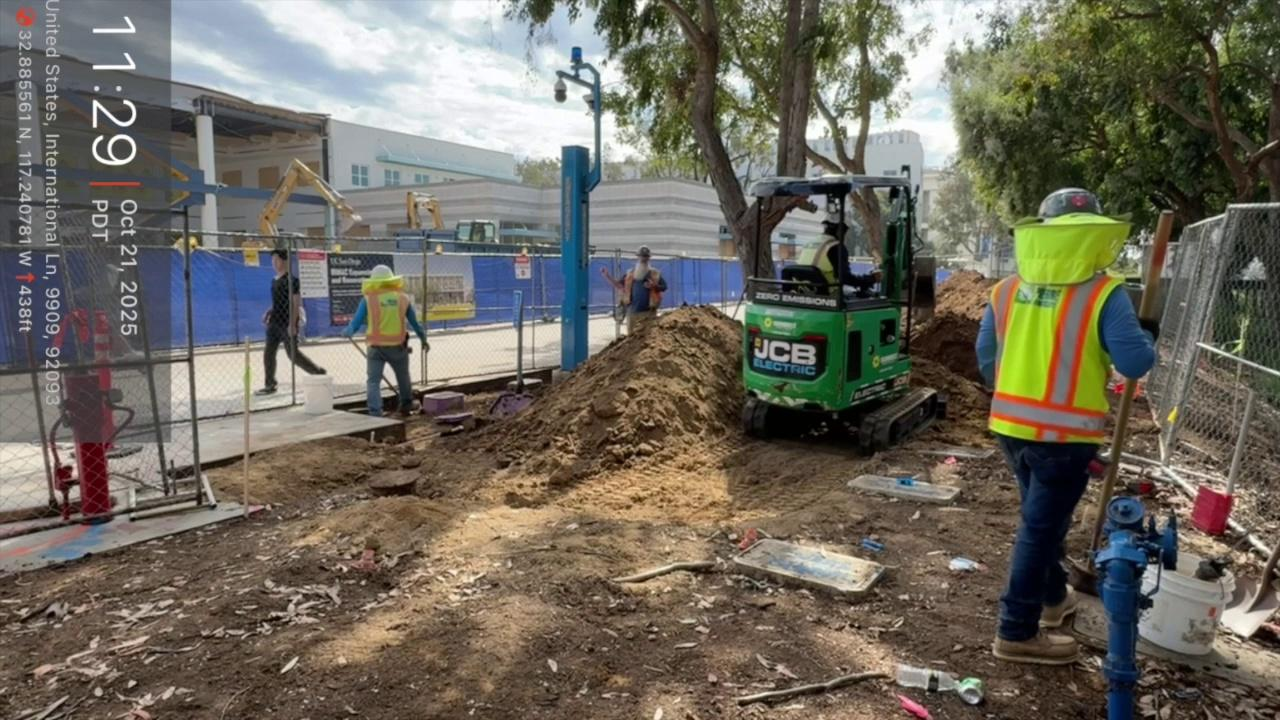Exacavator: (734, 170, 947, 456)
